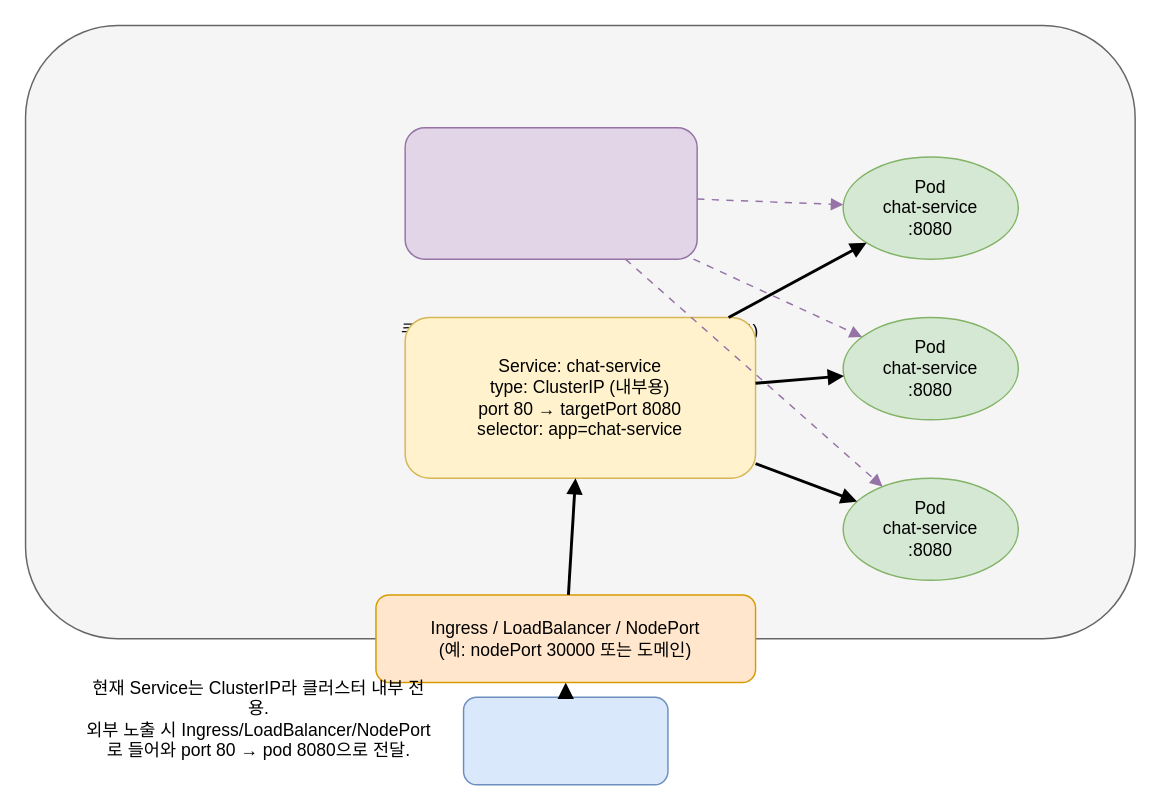
Image size: 1161x810. Some labels were removed from this diagram. The shapes that lost their labels are listed below. From the top down, each one's centre as x and y in pixels, then its label:
point (550, 192): Deployment replicas: 10 strategy: RollingUpdate
point (565, 740): 외부 사용자 (PC/모바일)
